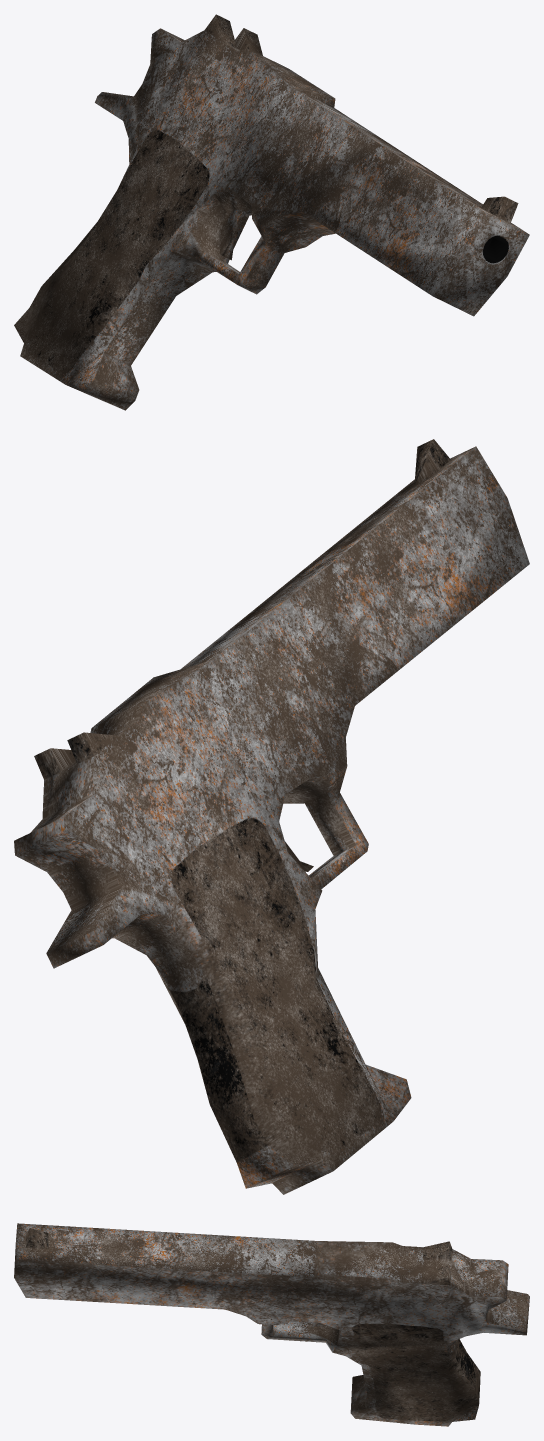
Rendered from Anim_disparar_pistola_objetos.0023.obj.
3 views of the same model, one above another, from view 1: azimuth 30°, elevation 25°; view 2: azimuth 150°, elevation 25°; view 3: azimuth 270°, elevation 25° (orthographic). The views are drawn at different scales.
Parts seen in each view (by area): view 1: Pistola1; view 2: Pistola1; view 3: Pistola1.
Part boxes in pixels (left/top/right/bottom): Pistola1: left=14, top=14, right=529, bottom=410; Pistola1: left=14, top=439, right=529, bottom=1194; Pistola1: left=14, top=1223, right=529, bottom=1426.
Bounding box in the file's own units: 0.6731 × 0.9397 × 1.7.
